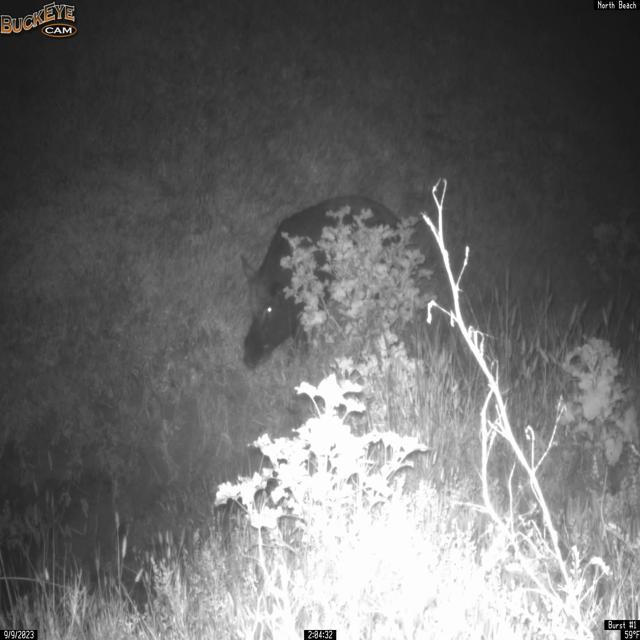pig: (239, 193, 409, 371)
